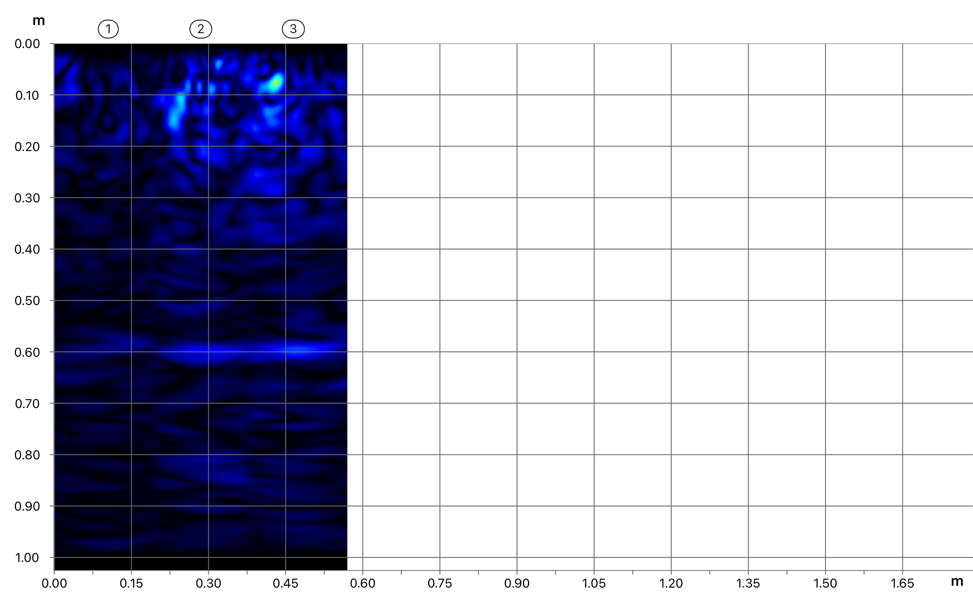crop: (0, 0, 349, 330)
